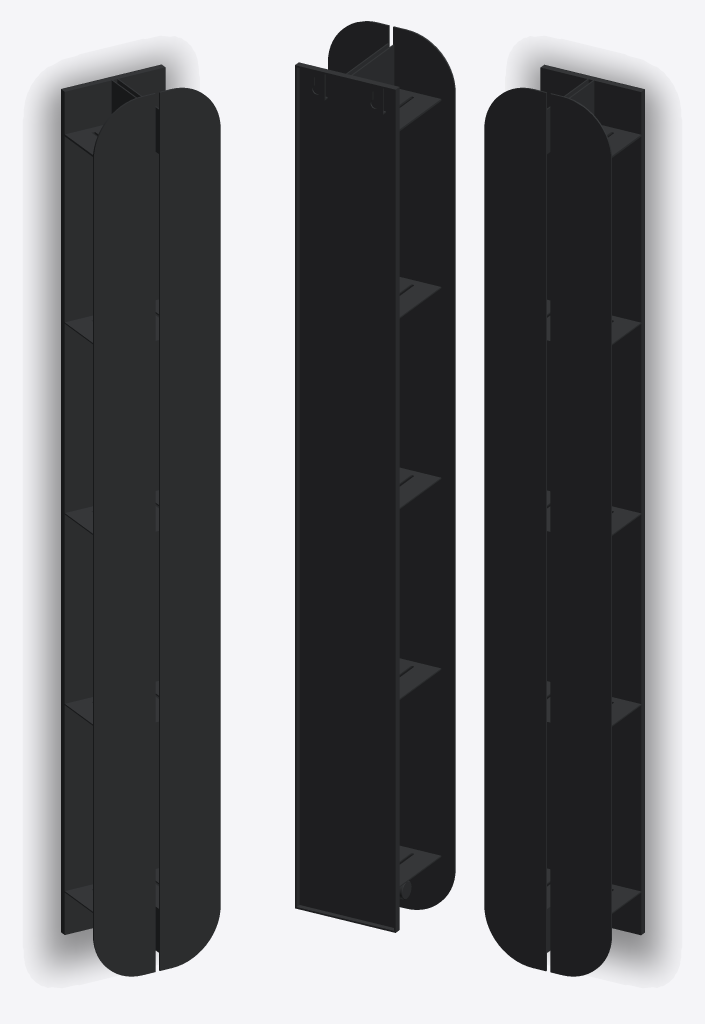
File: round-prima.27f5fd0d10.ar.glb
3 views of the same model, side by side, from view 1: azimuth 30°, elevation 25°; view 2: azimuth 150°, elevation 25°; view 3: azimuth 330°, elevation 25° (orthographic).
Visible parts, largest first — view 1: NAUO1, object 2; view 2: NAUO1; view 3: NAUO1, object 2.
Part boxes in pixels (box(x1,y1,x2,y2)): NAUO1: box(61, 64, 220, 976); object 2: box(39, 54, 182, 969); NAUO1: box(295, 21, 455, 932); NAUO1: box(484, 64, 644, 976); object 2: box(522, 54, 665, 969).
Bounding box in the file's own units: 0.2312 × 1.08 × 0.096.
2 materials, 1 textured.
